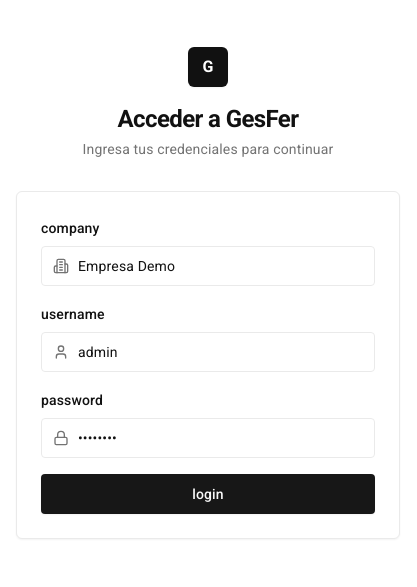
Test case: LoginPage › should show error message on login failure
The image size is (417, 587).
Click the button "login": (208, 494) [41,474,375,514]
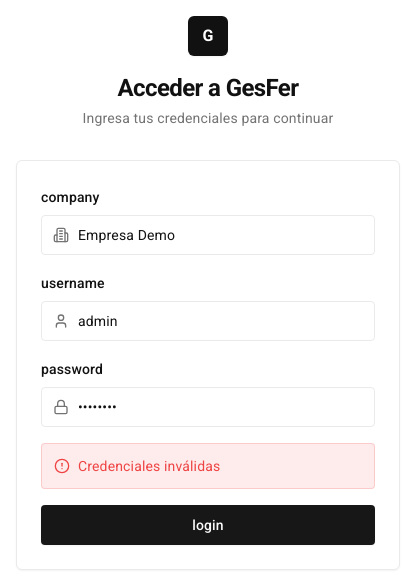
Now the text "Credenciales inválidas" is shown, box [78,456,220,476]
